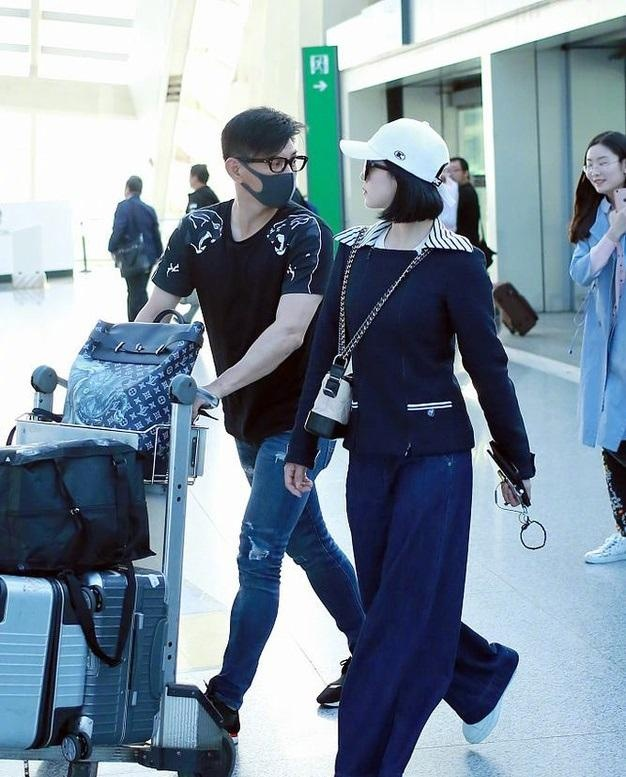Mask: (245, 148, 302, 205)
